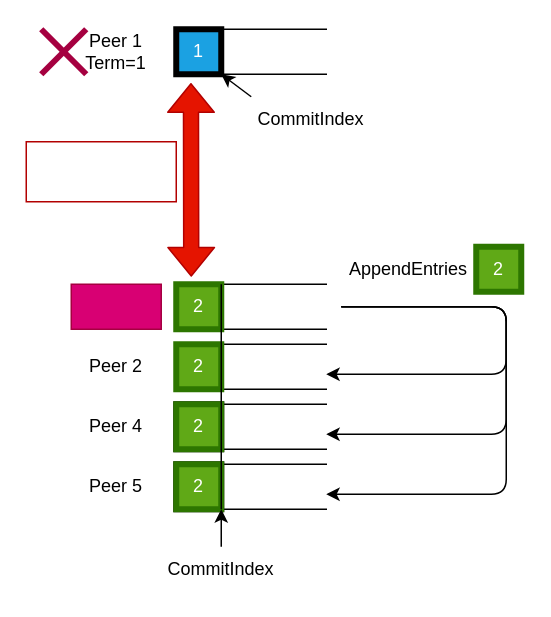
This 551x617 diagram has some shape labels left out. Here are the shapes that lost their labels. From the top down, the centre of each, then its label:
(100,171): Conflict!
(115,306): Leader 3 Term=4
